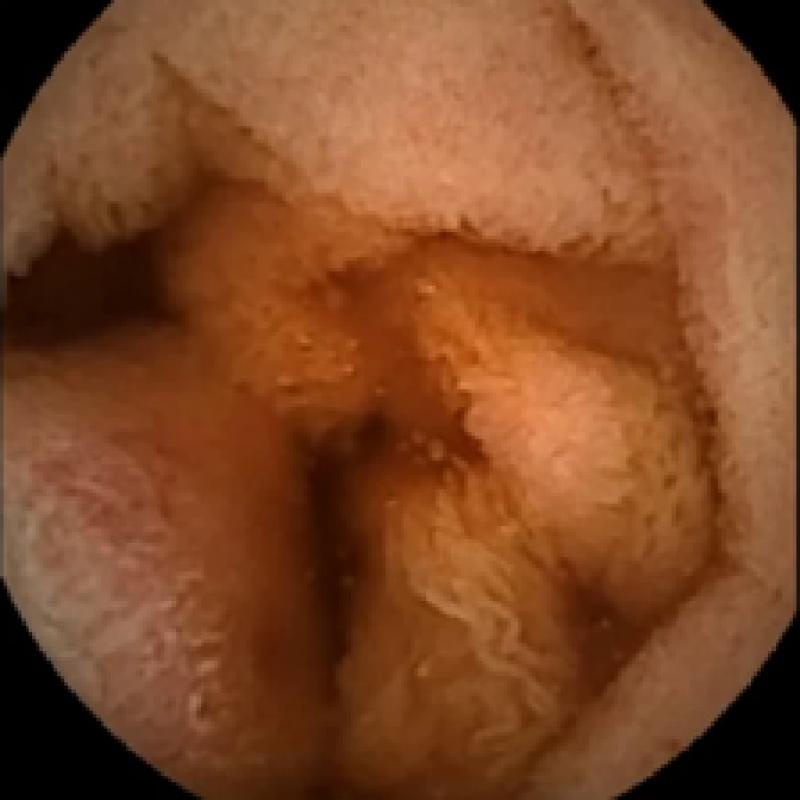bleeding: (280, 387, 402, 680), (0, 214, 193, 357)
